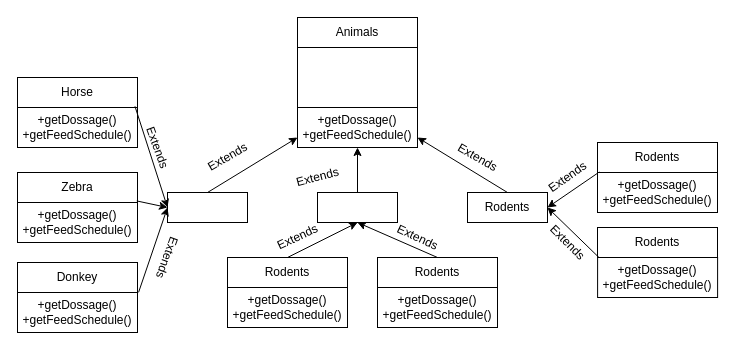
The diagram is 736 pixels wide and 350 high, and some of its shapes have lost their labels. Here are the shapes that lost their labels. From the top down, the centre of each, then its label:
At [357,77]: "+name:string +weight:double +age:int".
At [207,207]: "Horses".
At [357,207]: "Felines".
